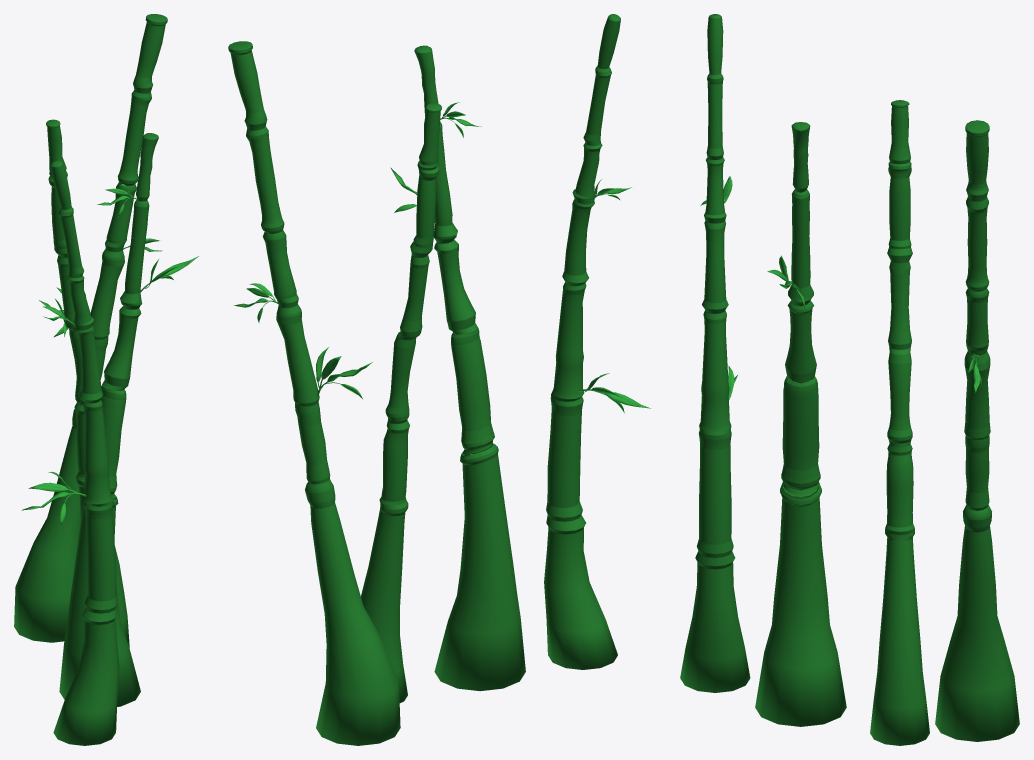
File: Bamboo2.fbx
3 renders of one model, left to right at view 1: azimuth 30°, elevation 25°; view 2: azimuth 150°, elevation 25°; view 3: azimuth 270°, elevation 25°, orthographic. The views are drawn at different scales.
Visible parts, largest first — view 1: bambooes, leaf.005, leaf.003; view 2: bambooes, leaf; view 3: bambooes.
Part boxes in pixels (x1,y1,x2,y2): bambooes: [14, 14, 167, 745]; leaf.005: [21, 472, 86, 526]; leaf.003: [140, 256, 198, 292]; bambooes: [228, 14, 620, 745]; leaf: [316, 347, 372, 398]; bambooes: [680, 14, 1019, 745].
Size of the model in its own units: 1523 by 3258 by 1528.
